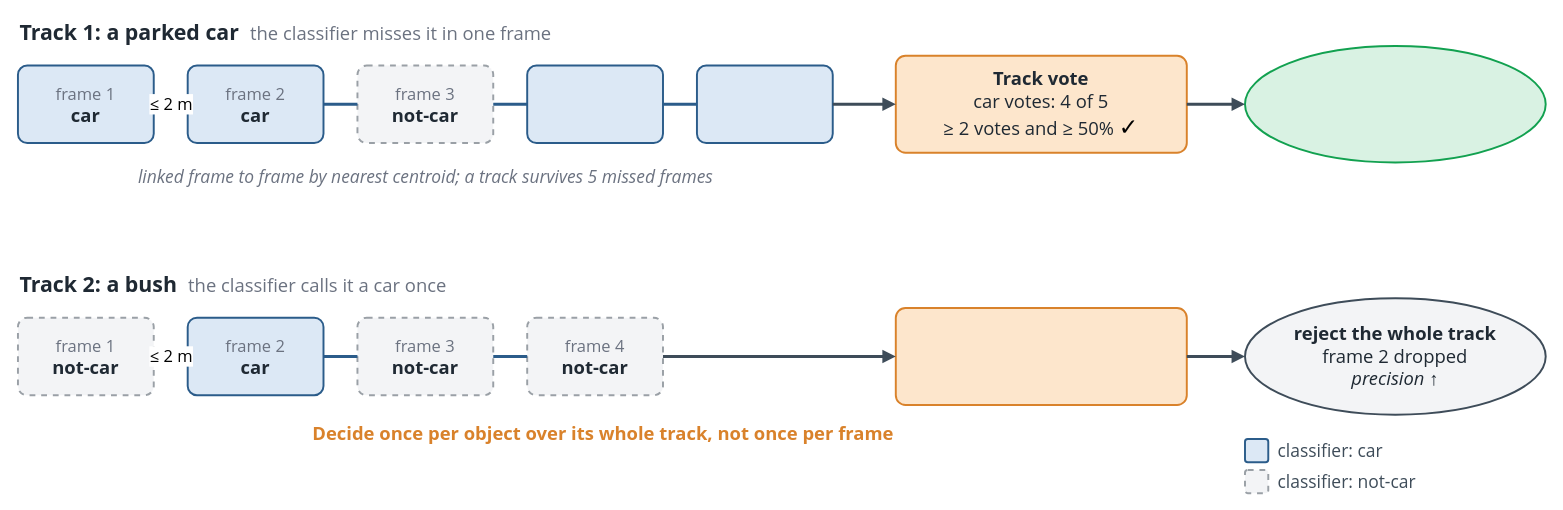
Some shapes in this 1563 by 510 pixel diagram are drawn without their labels. Here are the shapes that lost their labels. From the top down, the centre of each, then its label:
At [594,104]: "frame 4 car".
At [764,104]: "frame 5 car".
At [1395,104]: "accept the whole track frame 3 counted too recall ↑".
At [1040,356]: "Track vote car votes: 1 of 4 ≥ 2 votes and ≥ 50% ✗".
